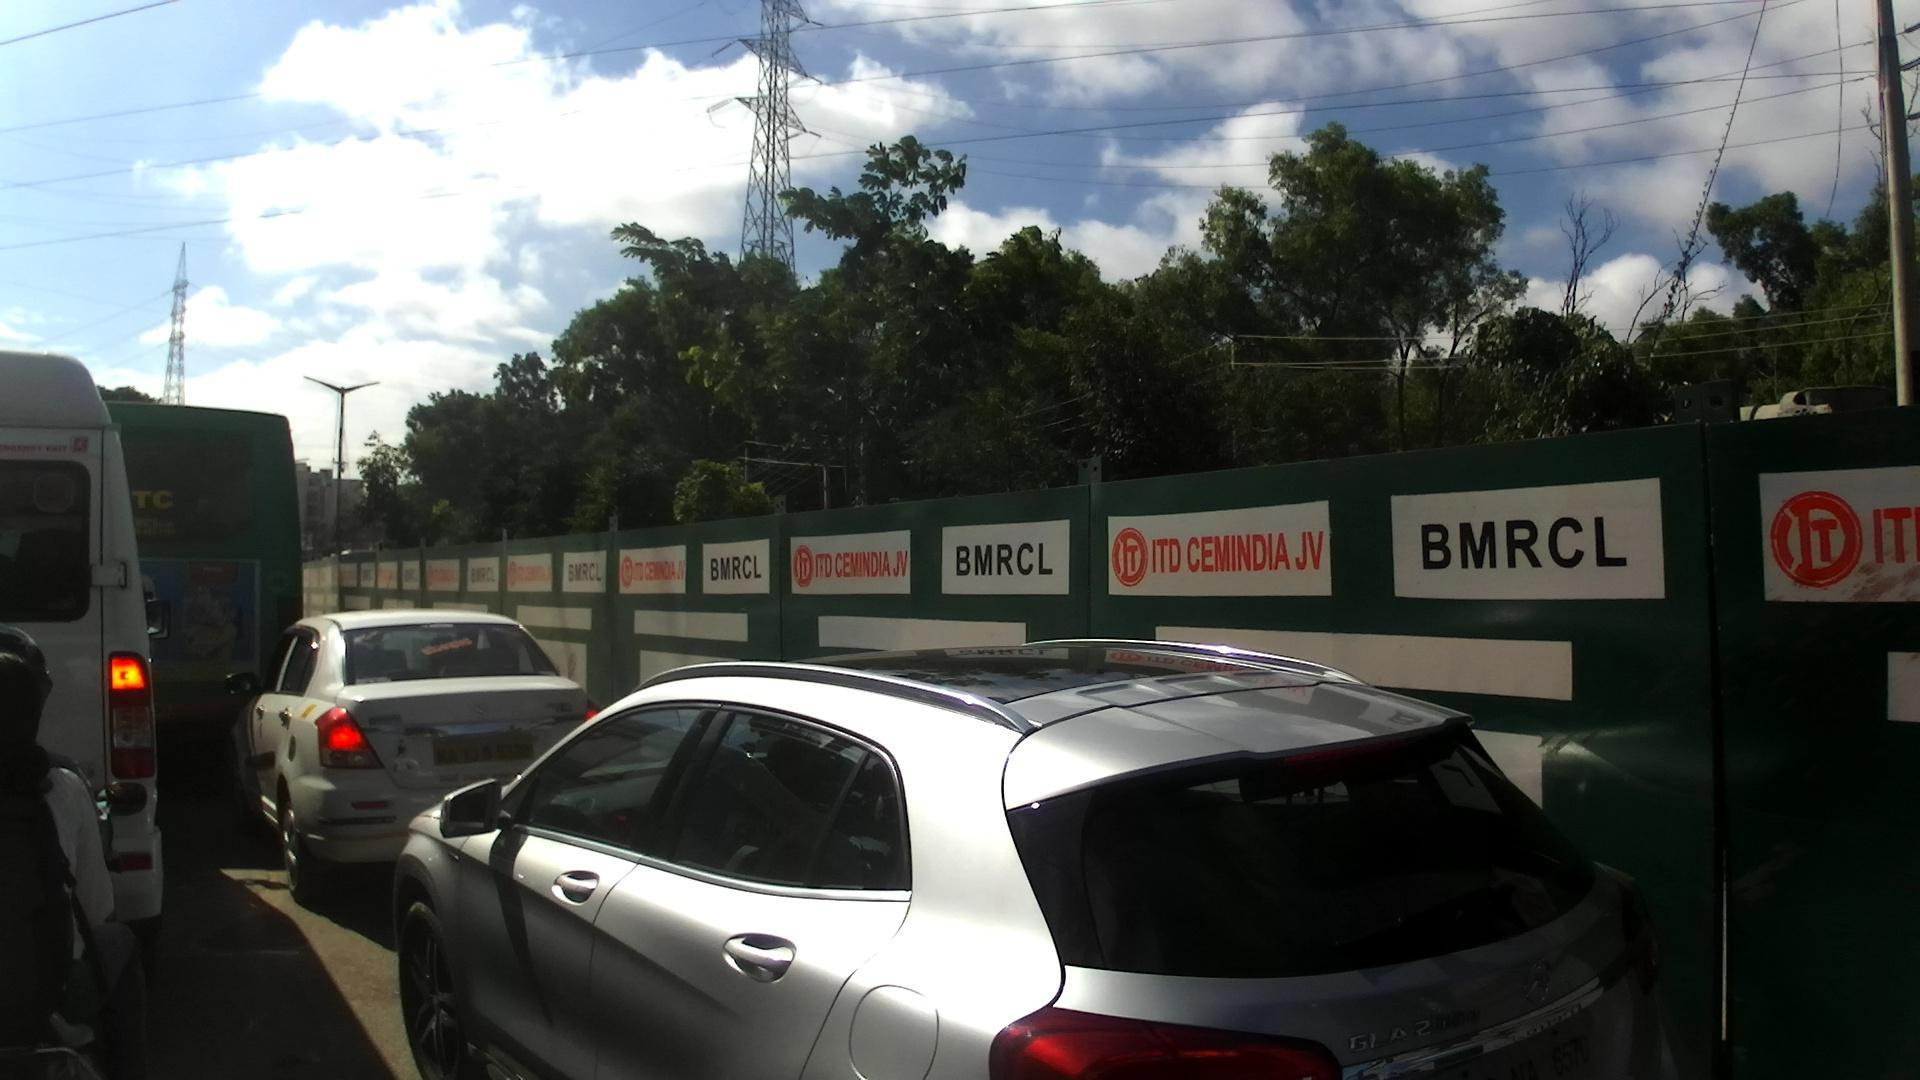off: (20, 0, 1920, 1027)
